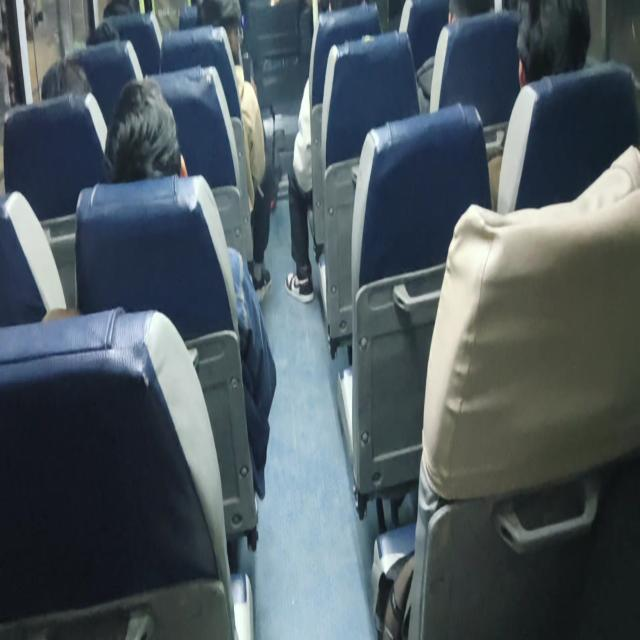person: (102, 76, 277, 501), (284, 0, 382, 304), (487, 0, 591, 211), (201, 0, 272, 302), (103, 76, 188, 182), (416, 0, 493, 113), (516, 0, 590, 89), (40, 56, 92, 100)
